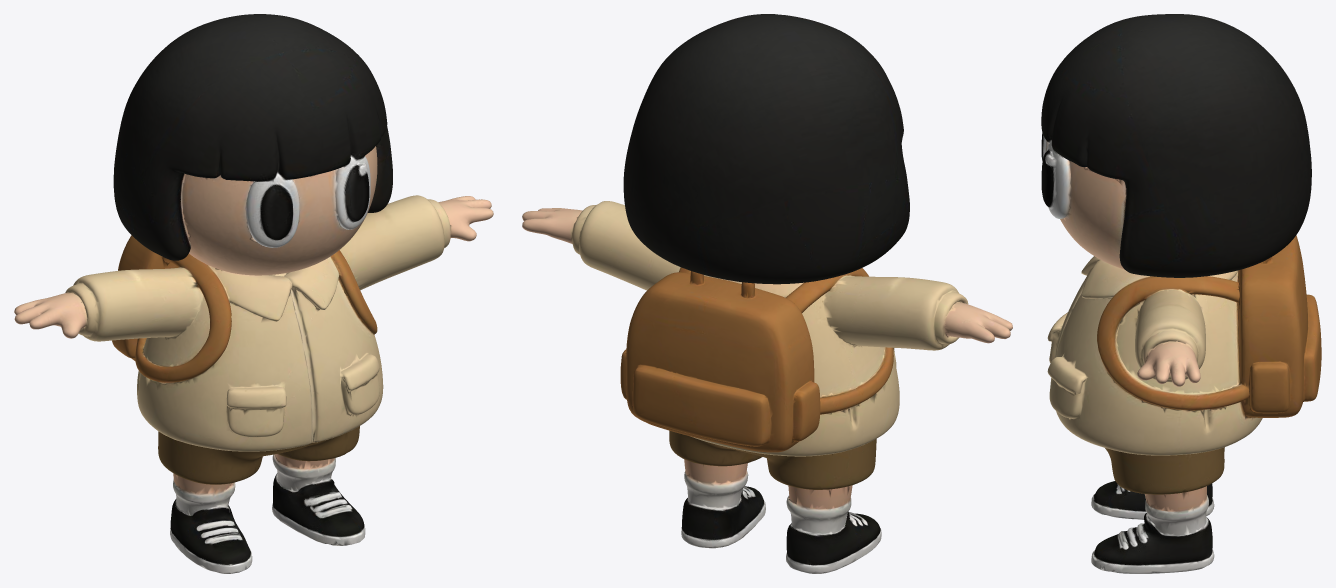
File: char-bob.glb
3 views of the same model, side by side, from view 1: azimuth 30°, elevation 25°; view 2: azimuth 150°, elevation 25°; view 3: azimuth 270°, elevation 25° (orthographic). The views are drawn at different scales.
Parts seen in each view (by area): view 1: tripo_node_2fb608b3-7fe2-4e63-a4ba-4f64bb53823d; view 2: tripo_node_2fb608b3-7fe2-4e63-a4ba-4f64bb53823d; view 3: tripo_node_2fb608b3-7fe2-4e63-a4ba-4f64bb53823d.
Part boxes in pixels (bbox=[...]): tripo_node_2fb608b3-7fe2-4e63-a4ba-4f64bb53823d: bbox=[14, 14, 493, 573]; tripo_node_2fb608b3-7fe2-4e63-a4ba-4f64bb53823d: bbox=[522, 14, 1012, 573]; tripo_node_2fb608b3-7fe2-4e63-a4ba-4f64bb53823d: bbox=[1041, 14, 1321, 573].
Size of the model in its own units: 0.9698 by 0.9793 by 0.4903.
Materials: 1 (1 with a texture image).
